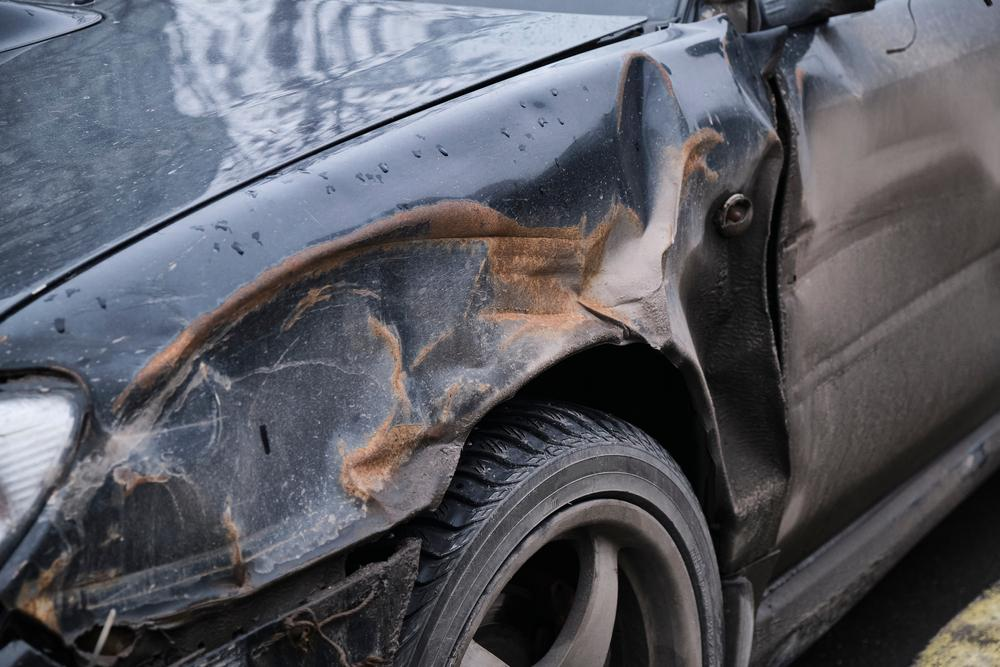dent: (18, 52, 797, 624)
